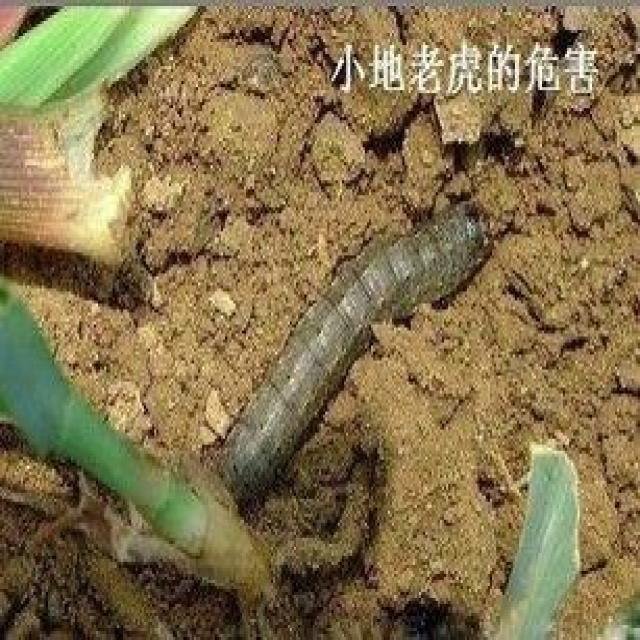black cutworm: (214, 175, 497, 494)
